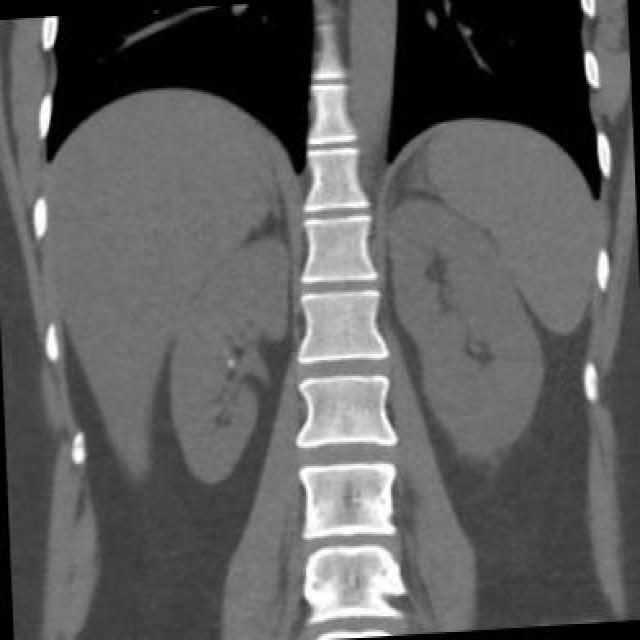Tas_Var: (225, 357, 237, 369)
